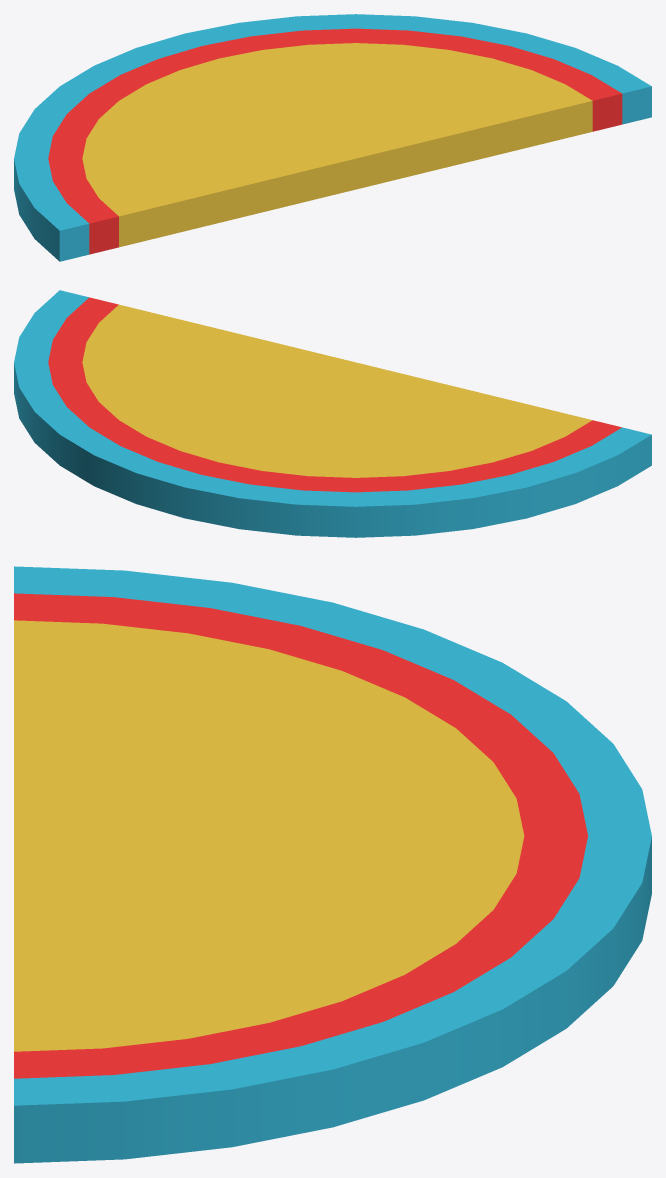
The picture shows the model from 3 angles, top to bottom: view 1: azimuth 30°, elevation 25°; view 2: azimuth 150°, elevation 25°; view 3: azimuth 270°, elevation 25°; orthographic projection. The views are drawn at different scales.
Visible parts, largest first — view 1: Cylinder001; view 2: Cylinder001; view 3: Cylinder001.
Part boxes in pixels (bbox=[...]): Cylinder001: bbox=[14, 14, 651, 261]; Cylinder001: bbox=[14, 290, 651, 537]; Cylinder001: bbox=[14, 566, 651, 1163].
Bounding box in the file's own units: 600 × 30 × 300.
